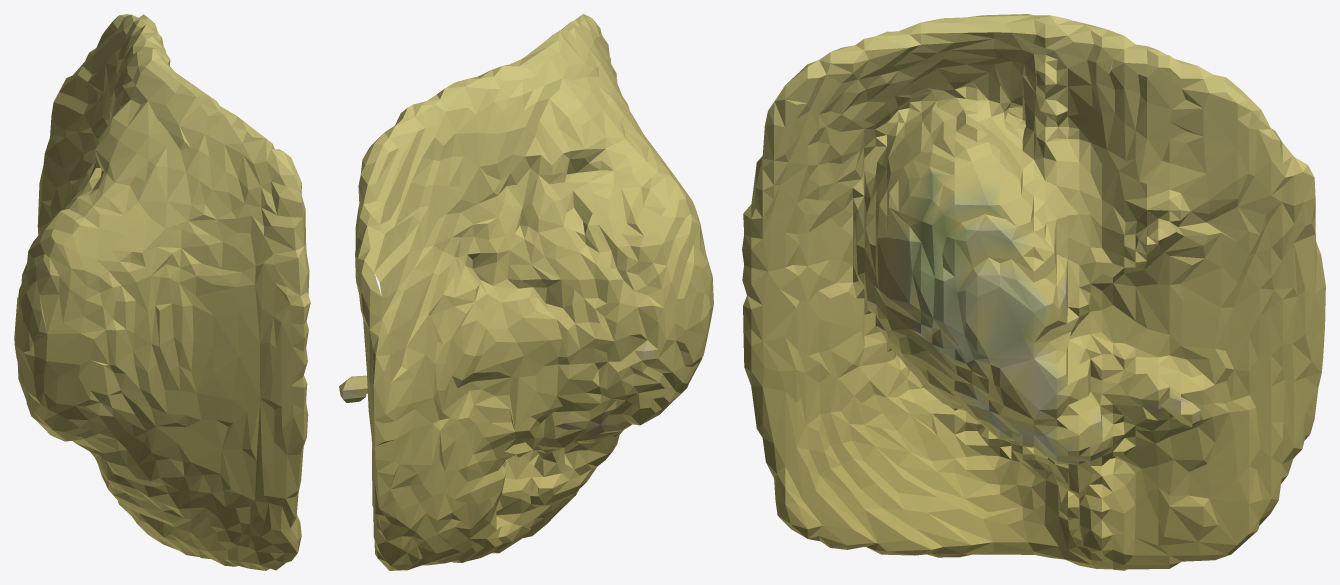
File: beetle_lamp.glb
3 renders of one model, left to right at view 1: azimuth 30°, elevation 25°; view 2: azimuth 150°, elevation 25°; view 3: azimuth 270°, elevation 25°, orthographic. The views are drawn at different scales.
Parts seen in each view (by area): view 1: world; view 2: world; view 3: world.
Part boxes in pixels (x1,y1,x2,y2): world: (14, 14, 310, 570); world: (339, 14, 713, 570); world: (742, 14, 1325, 570).
Size of the model in its own units: 0.2058 by 0.35 by 0.3393.
